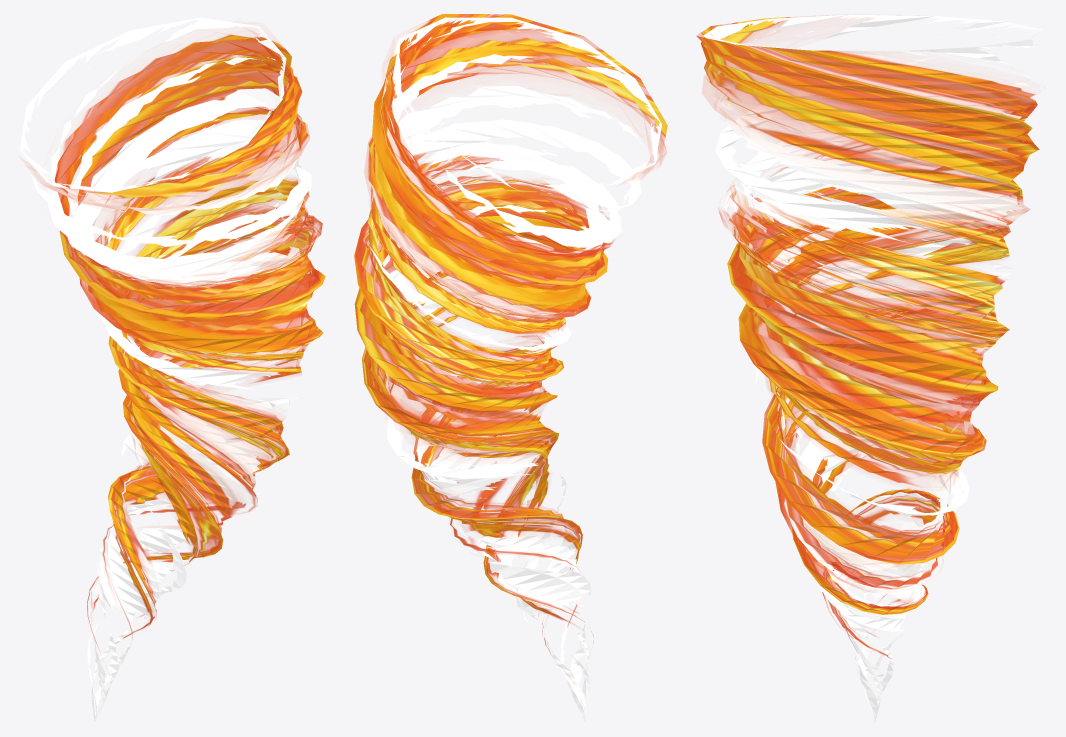
Rendered from geyser-lave.glb.
3 renders of one model, left to right at view 1: azimuth 30°, elevation 25°; view 2: azimuth 150°, elevation 25°; view 3: azimuth 270°, elevation 25°, orthographic. The views are drawn at different scales.
Parts seen in each view (by area): view 1: Tube_0, Tube 1_1, Tube 2_2; view 2: Tube 1_1, Tube_0, Tube 2_2; view 3: Tube 1_1, Tube 2_2, Tube_0.
Boxes of the visible parts, left/top/right/bottom form: Tube_0: left=20, top=17, right=311, bottom=722; Tube 1_1: left=26, top=28, right=325, bottom=638; Tube 2_2: left=79, top=150, right=323, bottom=650; Tube 1_1: left=354, top=14, right=667, bottom=626; Tube_0: left=362, top=17, right=661, bottom=722; Tube 2_2: left=354, top=153, right=603, bottom=680; Tube 1_1: left=696, top=15, right=1039, bottom=648; Tube 2_2: left=718, top=184, right=1028, bottom=658; Tube_0: left=703, top=14, right=1044, bottom=722.
Bounding box in the file's own units: 1.42 × 3.15 × 1.31.
3 materials, 3 textured.
